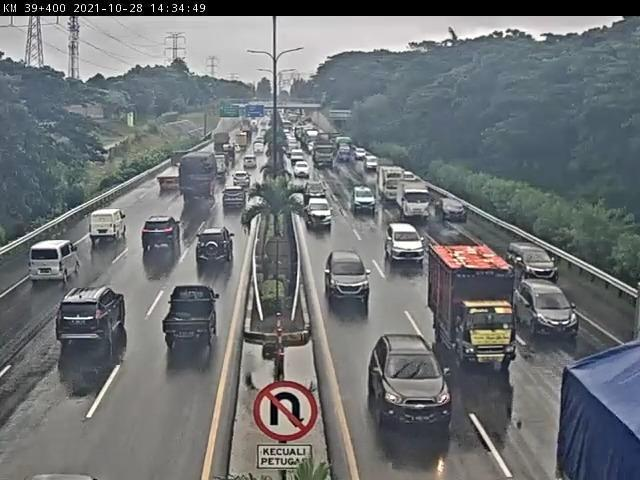car: (364, 322, 462, 441), (158, 278, 228, 357), (58, 285, 133, 350), (514, 275, 578, 340), (327, 248, 379, 315), (24, 233, 88, 285), (504, 239, 563, 287), (385, 216, 426, 274), (144, 212, 183, 263), (197, 221, 238, 267), (89, 205, 133, 247), (437, 192, 474, 235), (301, 197, 334, 234), (220, 183, 251, 220), (349, 186, 369, 221), (295, 161, 316, 181), (233, 171, 253, 191), (307, 185, 332, 201), (242, 154, 261, 170), (364, 156, 383, 172), (355, 144, 371, 162)
truck: (428, 240, 522, 384), (560, 341, 640, 460), (179, 156, 217, 211), (159, 148, 197, 198), (399, 179, 433, 224), (379, 167, 409, 203), (313, 136, 337, 170)
